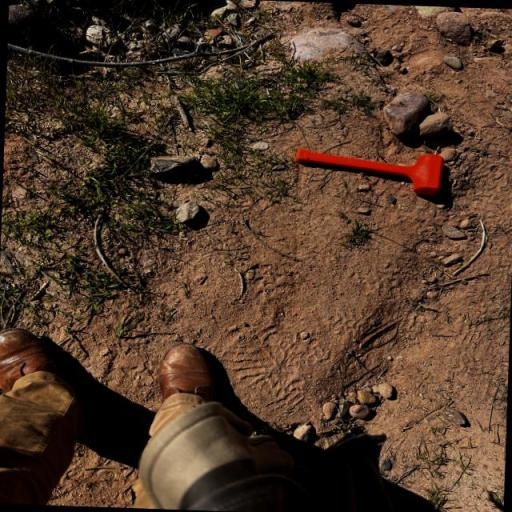mallet: (295, 148, 445, 196)
